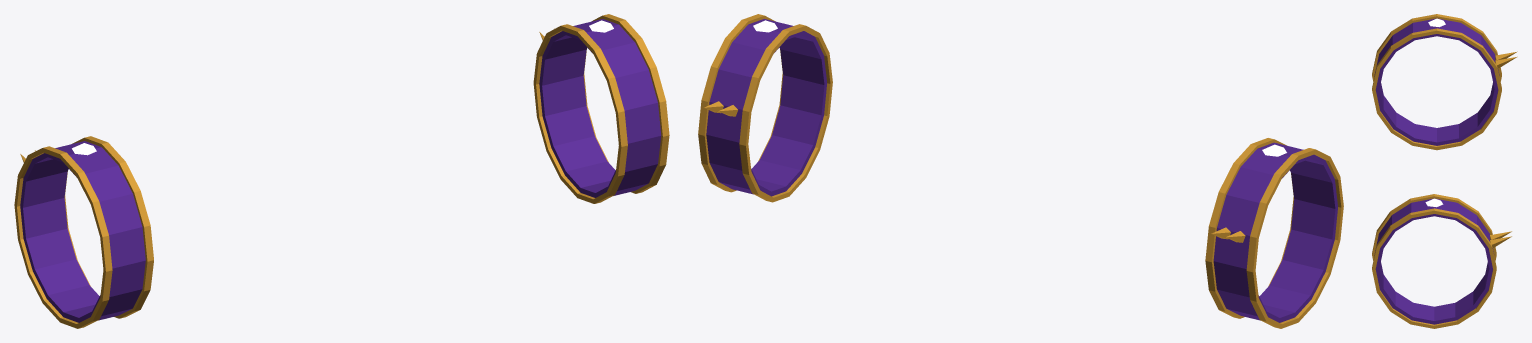
The model's file is armor_lord_arms_epic_human.glb.
3 renders of one model, left to right at view 1: azimuth 30°, elevation 25°; view 2: azimuth 150°, elevation 25°; view 3: azimuth 270°, elevation 25°, orthographic. The views are drawn at different scales.
Visible parts, largest first — view 1: armor_lord_arms_epic_human__lowerarm_r, armor_lord_arms_epic_human__lowerarm_l; view 2: armor_lord_arms_epic_human__lowerarm_r, armor_lord_arms_epic_human__lowerarm_l; view 3: armor_lord_arms_epic_human__lowerarm_r, armor_lord_arms_epic_human__lowerarm_l.
Part boxes in pixels (box(x1,y1,x2,y2)): armor_lord_arms_epic_human__lowerarm_r: box(14, 136, 153, 328); armor_lord_arms_epic_human__lowerarm_l: box(533, 14, 669, 203); armor_lord_arms_epic_human__lowerarm_r: box(1205, 138, 1343, 328); armor_lord_arms_epic_human__lowerarm_l: box(698, 14, 832, 202); armor_lord_arms_epic_human__lowerarm_r: box(1372, 14, 1517, 150); armor_lord_arms_epic_human__lowerarm_l: box(1372, 194, 1511, 328).
Bounding box in the file's own units: 119 × 34.99 × 37.48.
